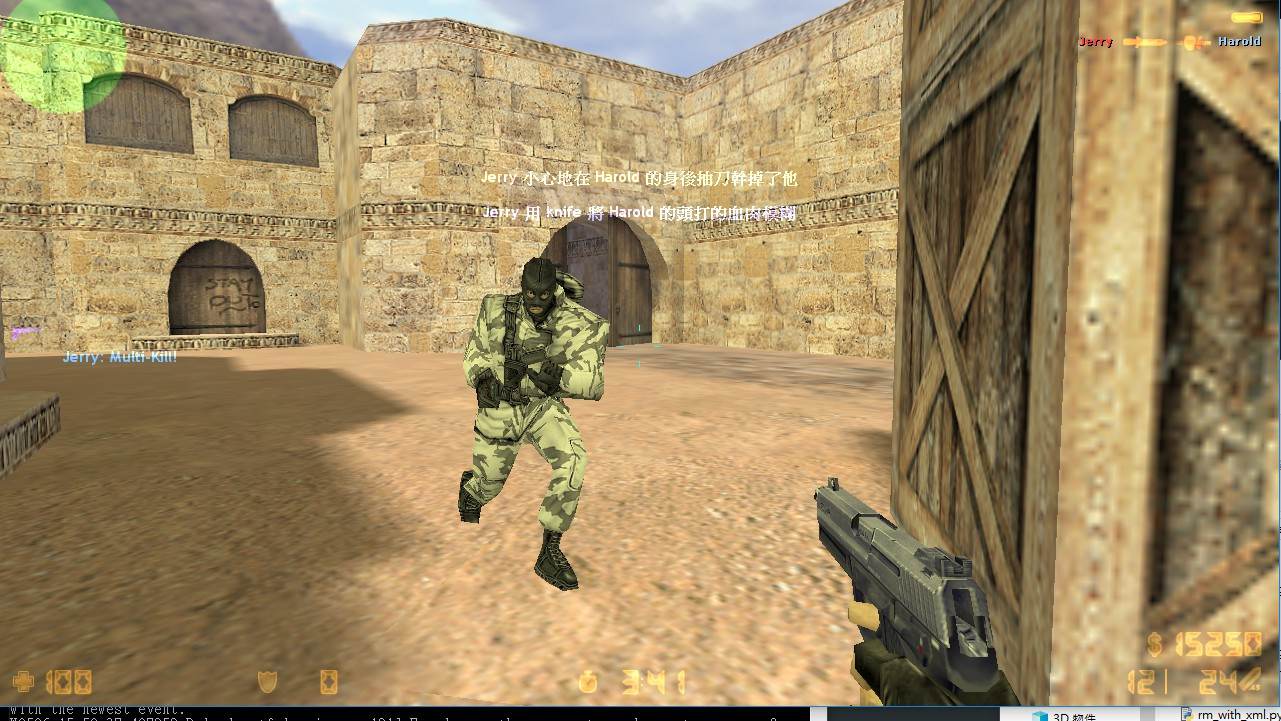person: (440, 250, 624, 606)
